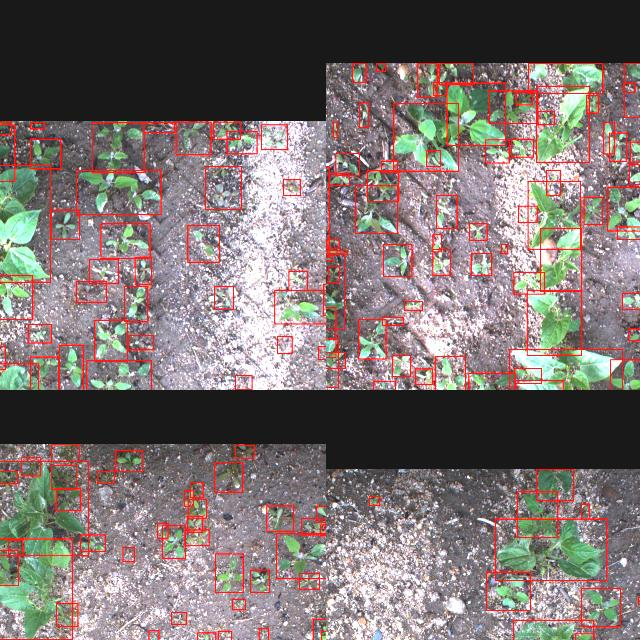crop: (0, 460, 87, 555), (0, 538, 71, 639), (494, 518, 606, 580), (0, 164, 49, 281), (508, 350, 621, 390), (536, 86, 588, 162), (526, 290, 582, 356), (526, 181, 580, 249), (539, 228, 581, 292), (528, 63, 602, 93), (513, 619, 593, 640), (0, 275, 32, 319), (536, 468, 572, 499), (515, 380, 562, 390)
weed: (392, 103, 458, 171), (446, 82, 504, 146), (76, 170, 160, 214), (91, 122, 143, 172), (276, 534, 326, 578), (355, 185, 397, 233), (516, 491, 558, 537), (85, 361, 150, 390), (274, 290, 326, 324), (100, 224, 150, 258), (488, 90, 538, 124), (486, 572, 530, 610), (580, 588, 620, 626), (205, 166, 241, 208), (606, 187, 640, 231), (326, 253, 344, 329), (94, 321, 126, 362), (358, 319, 386, 359), (188, 225, 218, 262), (176, 122, 210, 154), (58, 345, 82, 390), (215, 554, 243, 592), (366, 170, 398, 202), (434, 356, 464, 390), (382, 244, 412, 276), (29, 356, 57, 390), (623, 63, 640, 117), (30, 138, 60, 168), (610, 360, 640, 390), (123, 286, 147, 322), (50, 209, 78, 239), (214, 462, 242, 492), (438, 62, 474, 84), (89, 258, 118, 284), (468, 374, 514, 390), (266, 505, 294, 531), (162, 526, 184, 558), (417, 63, 437, 97), (261, 124, 287, 150), (226, 131, 256, 153), (513, 272, 543, 294), (436, 196, 456, 228), (50, 465, 76, 489), (0, 550, 17, 586), (75, 282, 105, 302), (582, 197, 602, 225), (115, 450, 142, 470), (485, 140, 509, 162), (335, 153, 359, 175), (56, 488, 80, 510), (134, 257, 152, 285), (608, 133, 626, 161), (51, 444, 79, 461), (432, 249, 450, 275), (471, 253, 492, 275), (212, 122, 240, 138), (28, 324, 50, 344), (56, 604, 76, 626), (214, 286, 232, 310), (80, 534, 104, 552), (514, 368, 540, 384), (300, 518, 326, 534), (511, 139, 533, 157), (250, 570, 268, 592), (602, 122, 614, 154), (184, 529, 208, 545), (187, 498, 206, 518), (288, 270, 306, 290), (392, 356, 410, 376), (20, 457, 40, 475), (128, 336, 152, 350), (546, 170, 560, 194), (142, 122, 174, 132), (299, 573, 319, 589), (518, 205, 536, 222), (621, 293, 640, 309), (326, 352, 345, 368), (617, 226, 640, 239), (312, 619, 326, 640), (469, 223, 486, 240), (282, 179, 300, 195), (276, 336, 292, 354), (352, 62, 366, 82), (234, 444, 253, 458), (186, 516, 202, 532), (234, 375, 251, 390), (629, 161, 640, 184), (414, 370, 432, 384), (358, 102, 368, 126), (630, 141, 640, 164), (426, 150, 440, 166), (8, 540, 22, 556), (329, 173, 349, 184), (373, 380, 395, 390), (585, 95, 597, 113), (96, 471, 114, 483), (537, 112, 553, 125), (515, 92, 531, 105), (0, 471, 17, 483), (381, 160, 397, 172), (190, 482, 202, 498), (170, 612, 186, 624), (432, 82, 446, 95), (122, 547, 134, 561), (432, 234, 441, 252), (328, 266, 338, 282), (382, 317, 402, 325), (316, 506, 326, 522), (196, 632, 215, 640), (628, 329, 640, 341), (404, 302, 422, 310), (0, 121, 11, 134), (157, 524, 167, 538), (574, 633, 593, 640), (217, 630, 230, 640), (184, 490, 192, 506), (258, 628, 268, 640), (232, 599, 244, 609), (317, 346, 326, 359), (580, 504, 588, 518), (622, 82, 634, 91), (326, 240, 338, 248), (148, 631, 158, 640), (30, 122, 44, 128), (326, 250, 347, 254), (369, 496, 379, 504), (319, 524, 326, 535), (376, 63, 384, 71), (501, 244, 507, 254), (333, 122, 337, 136), (326, 254, 331, 260), (637, 597, 640, 604)
